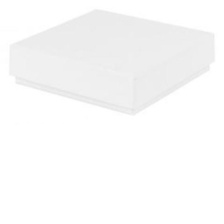foam_box: (5, 5, 220, 118)
